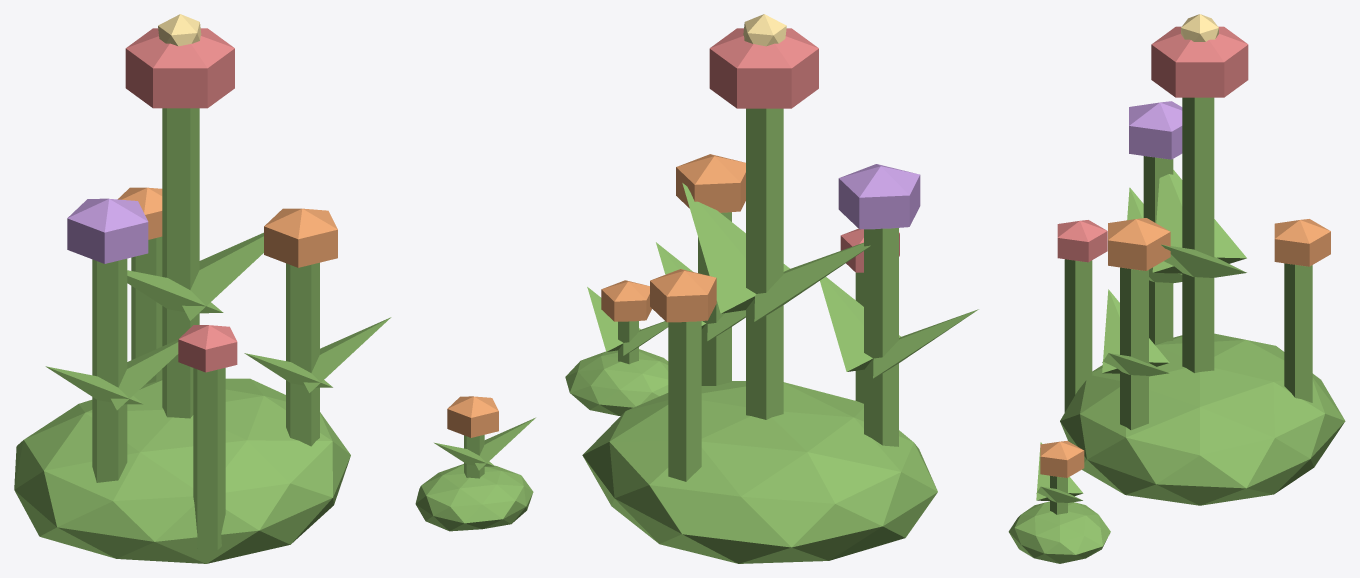
Rendered from meadow-g1.glb.
3 views of the same model, side by side, from view 1: azimuth 30°, elevation 25°; view 2: azimuth 150°, elevation 25°; view 3: azimuth 270°, elevation 25° (orthographic). The views are drawn at different scales.
Parts seen in each view (by area): view 1: meadow-g1; view 2: meadow-g1; view 3: meadow-g1.
Boxes of the visible parts, x1,y1,x2,y2 form: meadow-g1: (14,14,535,563); meadow-g1: (565,14,978,563); meadow-g1: (1008,14,1345,563).
Size of the model in its own units: 1.14 by 1.2 by 0.8424.
